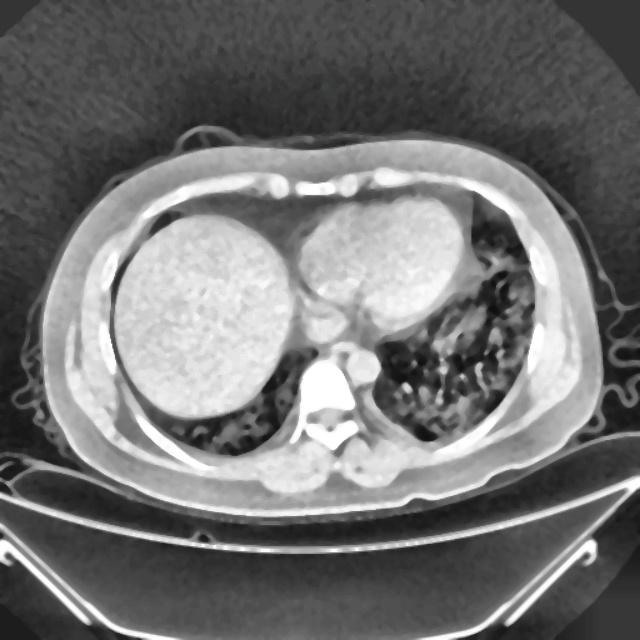covid: (39, 133, 603, 522)
